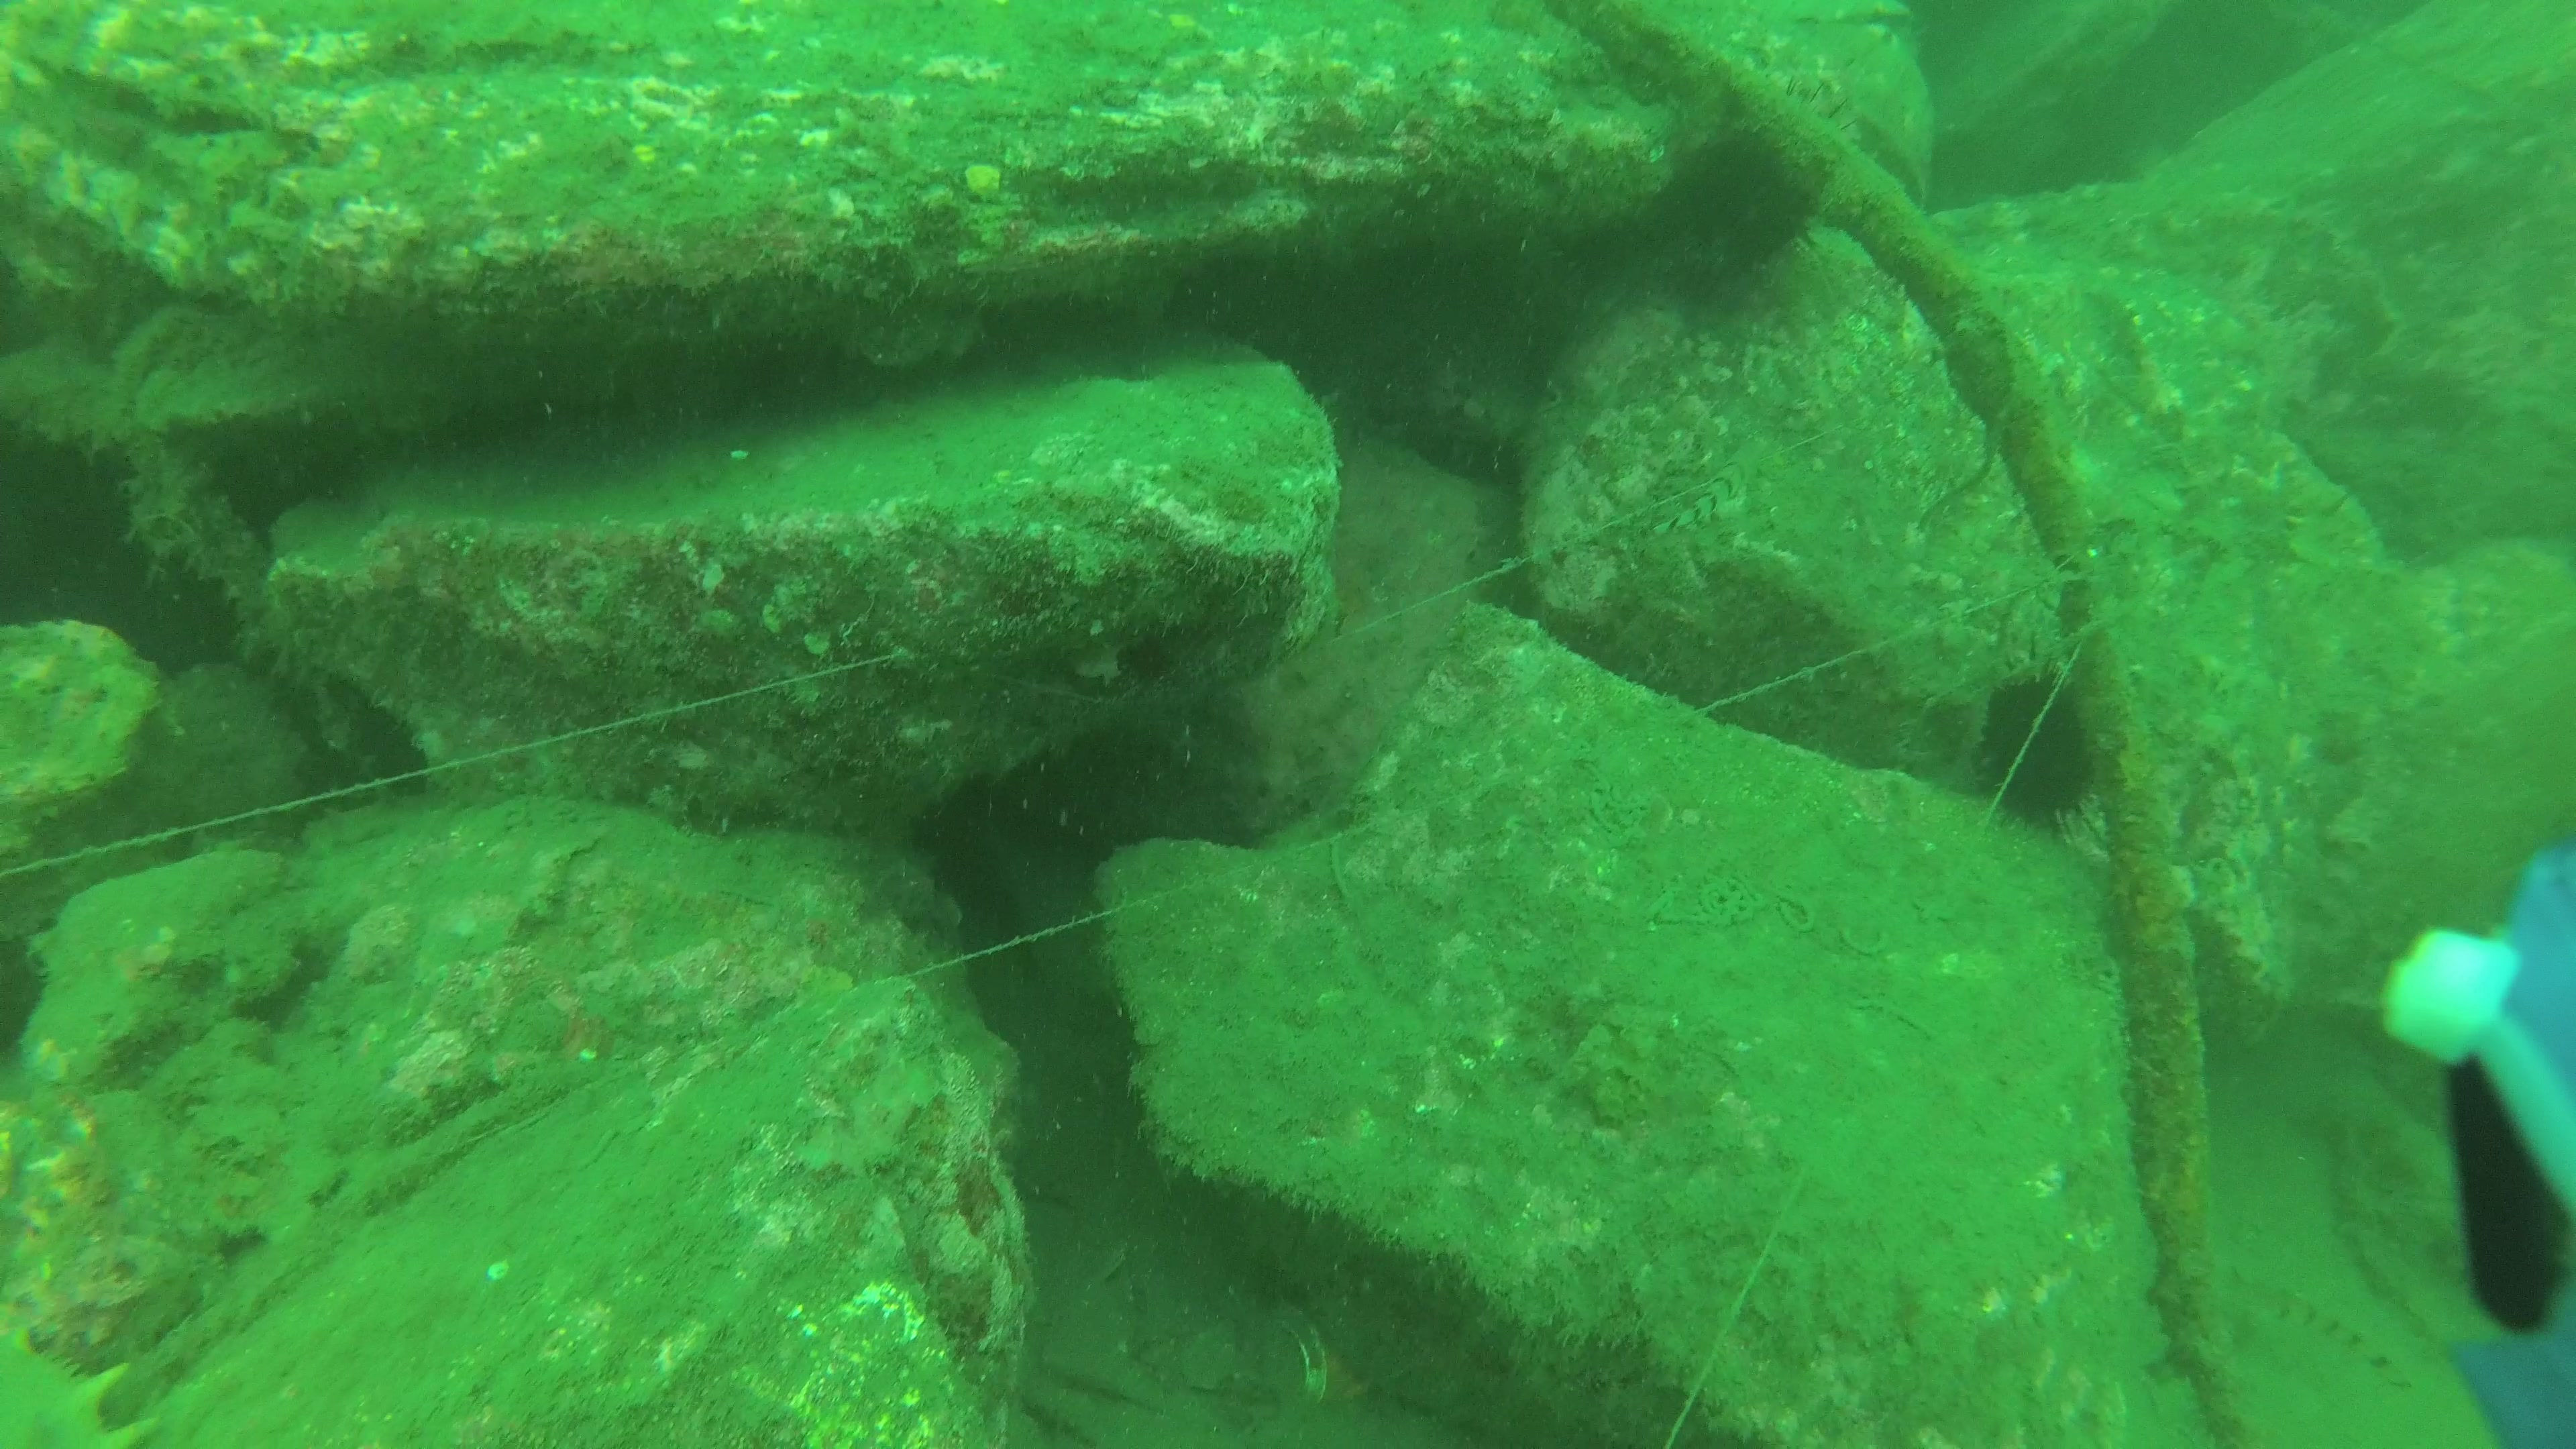echinus: (1661, 92, 1829, 306), (1973, 656, 2104, 842)
